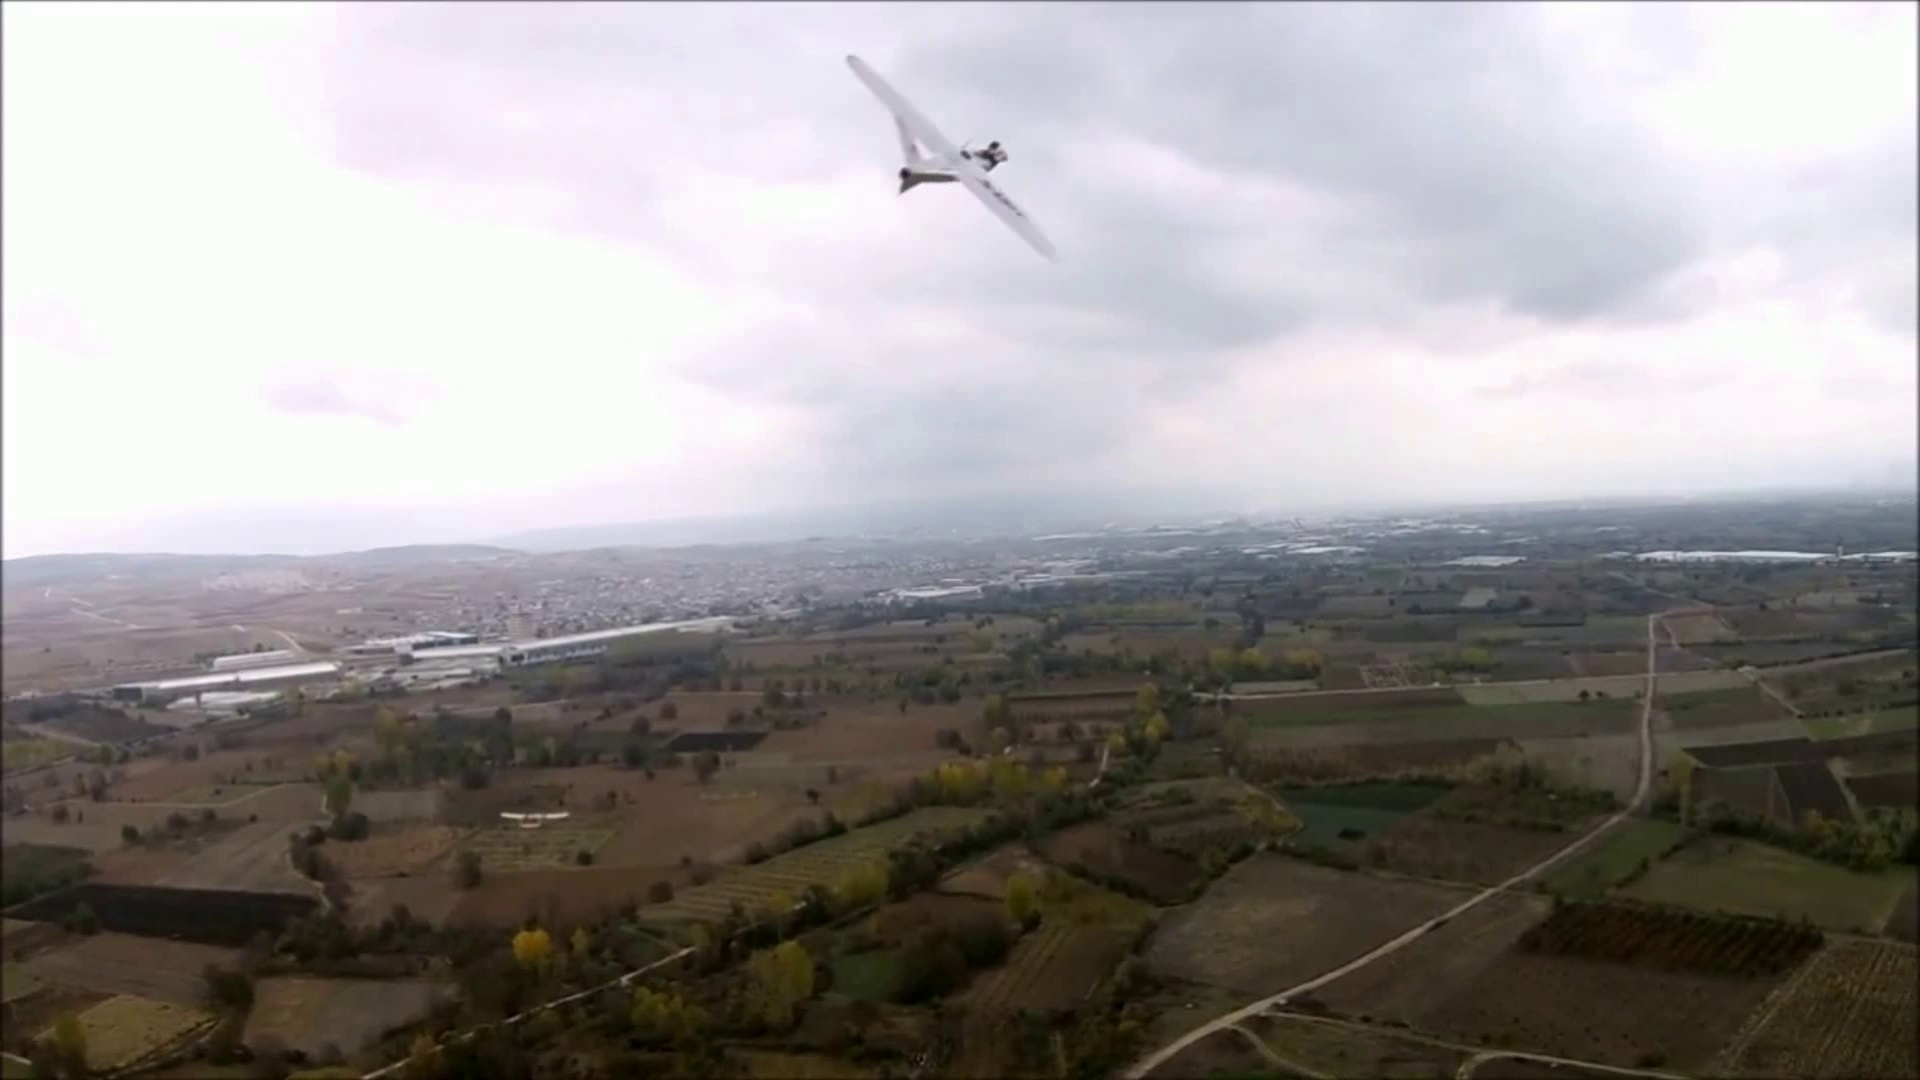airplane: (841, 53, 1059, 262), (891, 138, 1060, 265)
